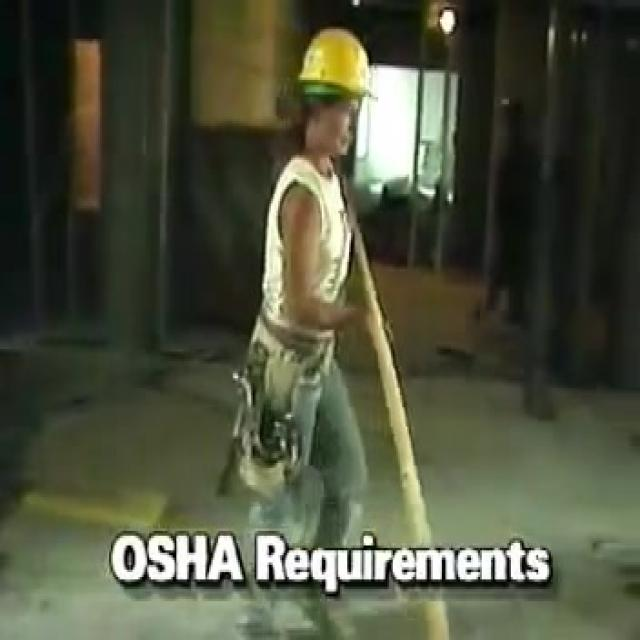Safety-Helmet: (280, 15, 387, 121)
